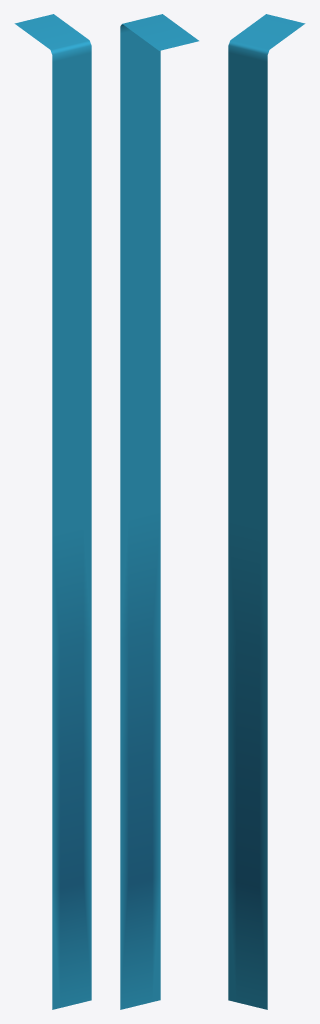
File: Waterfall_02.fbx
3 renders of one model, left to right at view 1: azimuth 30°, elevation 25°; view 2: azimuth 210°, elevation 25°; view 3: azimuth 330°, elevation 25°, orthographic. The views are drawn at different scales.
Parts seen in each view (by area): view 1: GR_Waterfall_02; view 2: GR_Waterfall_02; view 3: GR_Waterfall_02.
Part boxes in pixels (box(x1,y1,x2,y2)): GR_Waterfall_02: box(14, 14, 91, 1009); GR_Waterfall_02: box(120, 14, 198, 1009); GR_Waterfall_02: box(228, 14, 305, 1009).
Size of the model in its own units: 60 by 1400 by 100.
